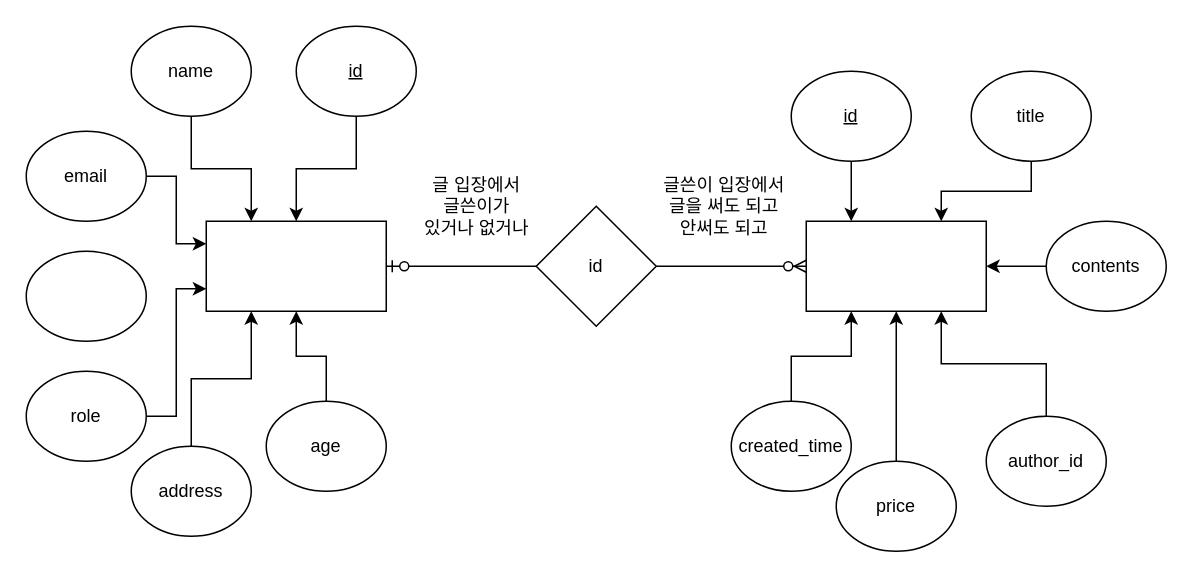
The diagram is 1193 pixels wide and 578 high, and some of its shapes have lost their labels. Each missing label, with the centre of its shape:
"author" goes at point (295, 265).
"password" goes at point (85, 295).
"post" goes at point (895, 265).
